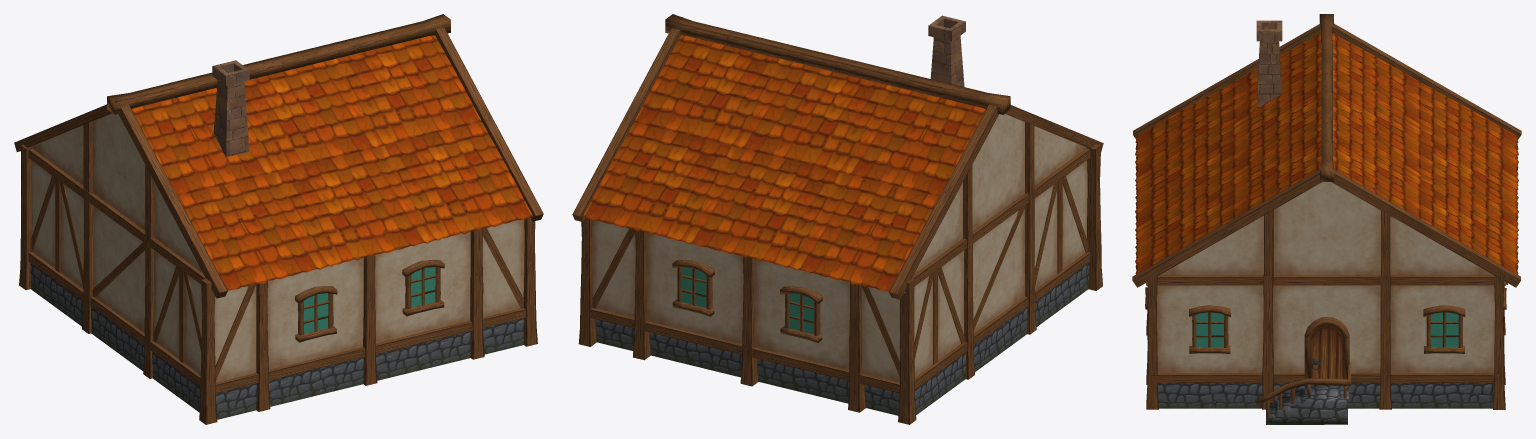
File: house3_morph.fbx
3 views of the same model, side by side, from view 1: azimuth 30°, elevation 25°; view 2: azimuth 150°, elevation 25°; view 3: azimuth 270°, elevation 25° (orthographic). The views are drawn at different scales.
Parts seen in each view (by area): view 1: before; view 2: before; view 3: before.
Boxes of the visible parts, bbox=[...] form: before: bbox=[14, 14, 543, 424]; before: bbox=[572, 14, 1103, 424]; before: bbox=[1132, 14, 1521, 424].
Size of the model in its own units: 18174 by 13657 by 17691.
3 materials, 2 textured.
